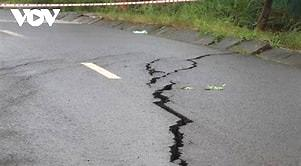ROAD_CRACK: (145, 50, 245, 165)
